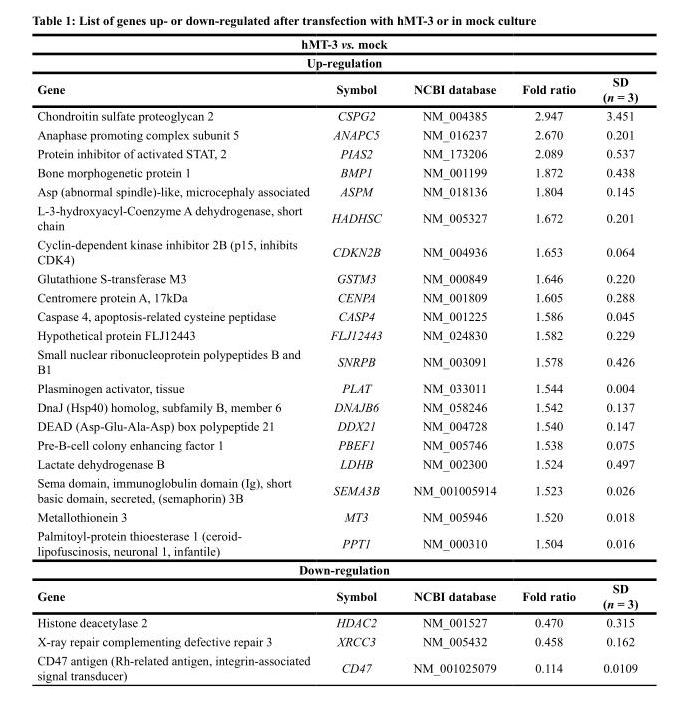table: (36, 36, 637, 682)
table column: (36, 36, 319, 682), (397, 36, 508, 682), (508, 36, 588, 682), (319, 36, 397, 682), (588, 36, 637, 682)
table column header: (36, 36, 637, 105)
table projected row header: (36, 559, 637, 578)
table row: (36, 71, 637, 105), (36, 200, 637, 234), (36, 234, 637, 268), (36, 344, 637, 378), (36, 472, 637, 506), (36, 525, 637, 559), (36, 578, 637, 612), (36, 650, 637, 682), (36, 52, 637, 71), (36, 105, 637, 124), (36, 124, 637, 143), (36, 143, 637, 162), (36, 162, 637, 181), (36, 181, 637, 200), (36, 268, 637, 287), (36, 287, 637, 306), (36, 306, 637, 325), (36, 325, 637, 344), (36, 378, 637, 397), (36, 397, 637, 416), (36, 416, 637, 435), (36, 453, 637, 472), (36, 506, 637, 525), (36, 559, 637, 578), (36, 612, 637, 631), (36, 631, 637, 650), (36, 435, 637, 453), (36, 36, 637, 52)
table spanning cell: (36, 36, 637, 71)
